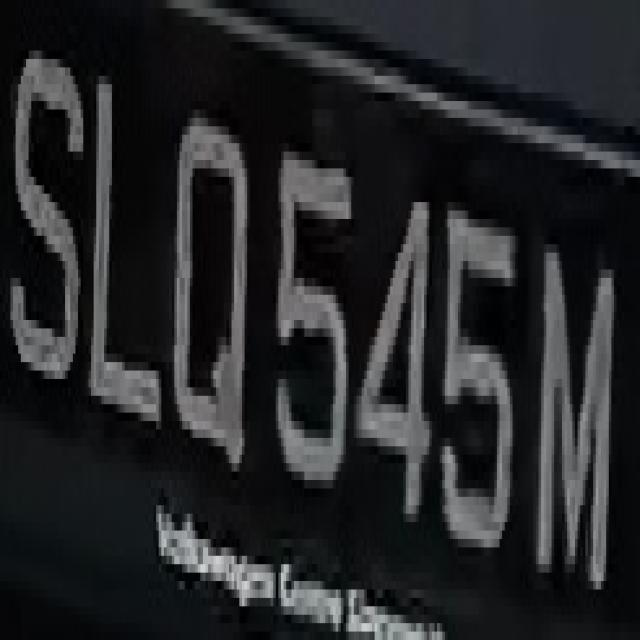4: (346, 177, 432, 530)
5: (437, 168, 523, 590), (263, 110, 351, 514)
L: (94, 42, 164, 463)
M: (530, 227, 616, 640)
Q: (161, 110, 263, 506)
S: (11, 25, 88, 413)
